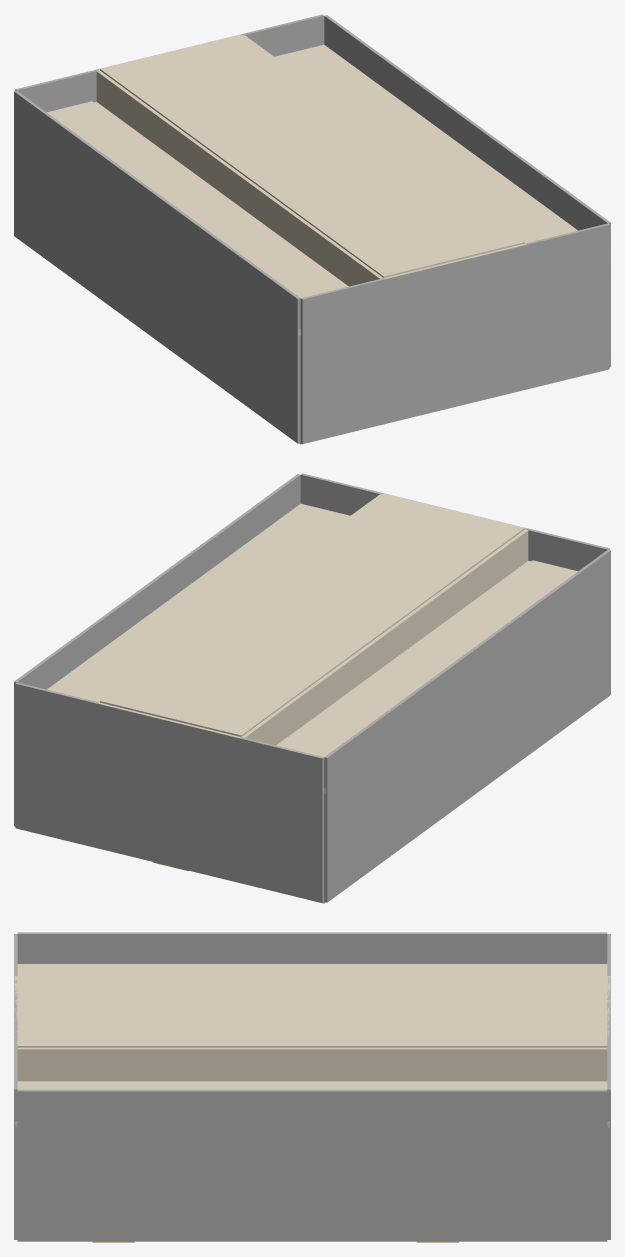
File: Lobby.fbx
3 views of the same model, one above another, from view 1: azimuth 30°, elevation 25°; view 2: azimuth 150°, elevation 25°; view 3: azimuth 270°, elevation 25° (orthographic). The views are drawn at different scales.
Visible parts, largest first — view 1: Wall_Front, Wall_Left, NaveCeiling_slab, SideCeiling1_slab, SideCeiling-1_slab, Clerestory, Wall_Right, Wall_Back, Entablature, Clerestory.001, NaveCeiling_bx; view 2: Wall_Back, Wall_Left, NaveCeiling_slab, SideCeiling1_slab, SideCeiling-1_slab, Clerestory, Wall_Right, Wall_Front, Entablature, Clerestory.001; view 3: Wall_Right, NaveCeiling_slab, Clerestory.001, Wall_Left, SideCeiling-1_slab, SideCeiling1_slab, Wall_Back, Wall_Front, Entablature.001.
Part boxes in pixels (bbox=[...]): Wall_Front: bbox=[300, 223, 609, 444]; Wall_Left: bbox=[14, 90, 300, 443]; NaveCeiling_slab: bbox=[100, 34, 524, 277]; SideCeiling1_slab: bbox=[274, 44, 577, 242]; SideCeiling-1_slab: bbox=[47, 101, 345, 297]; Clerestory: bbox=[96, 70, 382, 286]; Wall_Right: bbox=[324, 15, 610, 367]; Wall_Back: bbox=[15, 14, 324, 112]; Entablature: bbox=[95, 102, 348, 286]; Clerestory.001: bbox=[243, 35, 527, 242]; NaveCeiling_bx: bbox=[99, 71, 381, 278]; Wall_Back: bbox=[15, 682, 324, 903]; Wall_Left: bbox=[324, 549, 610, 902]; NaveCeiling_slab: bbox=[100, 493, 524, 736]; SideCeiling1_slab: bbox=[47, 503, 350, 701]; SideCeiling-1_slab: bbox=[279, 560, 577, 756]; Clerestory: bbox=[242, 529, 528, 745]; Wall_Right: bbox=[14, 474, 300, 826]; Wall_Front: bbox=[300, 473, 609, 571]; Entablature: bbox=[276, 561, 530, 745]; Clerestory.001: bbox=[97, 494, 381, 702]; Wall_Right: bbox=[17, 1089, 607, 1241]; NaveCeiling_slab: bbox=[17, 974, 607, 1047]; Clerestory.001: bbox=[17, 1047, 607, 1081]; Wall_Left: bbox=[17, 932, 607, 963]; SideCeiling-1_slab: bbox=[17, 964, 607, 974]; SideCeiling1_slab: bbox=[17, 1081, 607, 1089]; Wall_Back: bbox=[607, 934, 610, 1239]; Wall_Front: bbox=[14, 934, 17, 1239]; Entablature.001: bbox=[18, 1081, 606, 1081].
Bounding box in the file's own units: 2040 × 925 × 3240.
